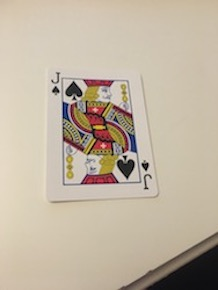JackOfSpades: (43, 60, 163, 205)
